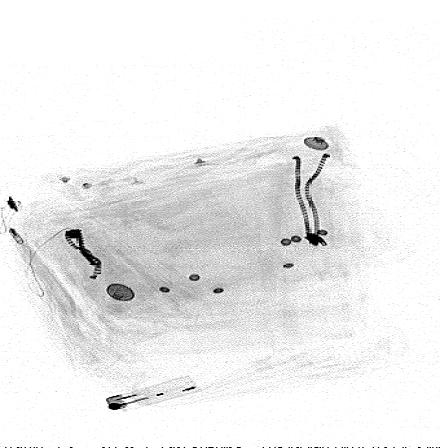Lighter: (106, 374, 203, 413)
